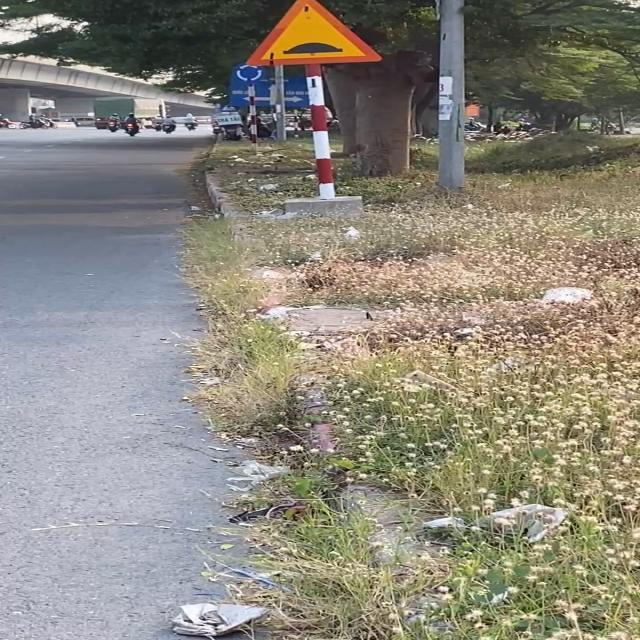221-duong-go-ghe: (245, 0, 384, 68)
303-noi-giao-nhau-chay-theo-vong-xuyen: (232, 62, 266, 84)
